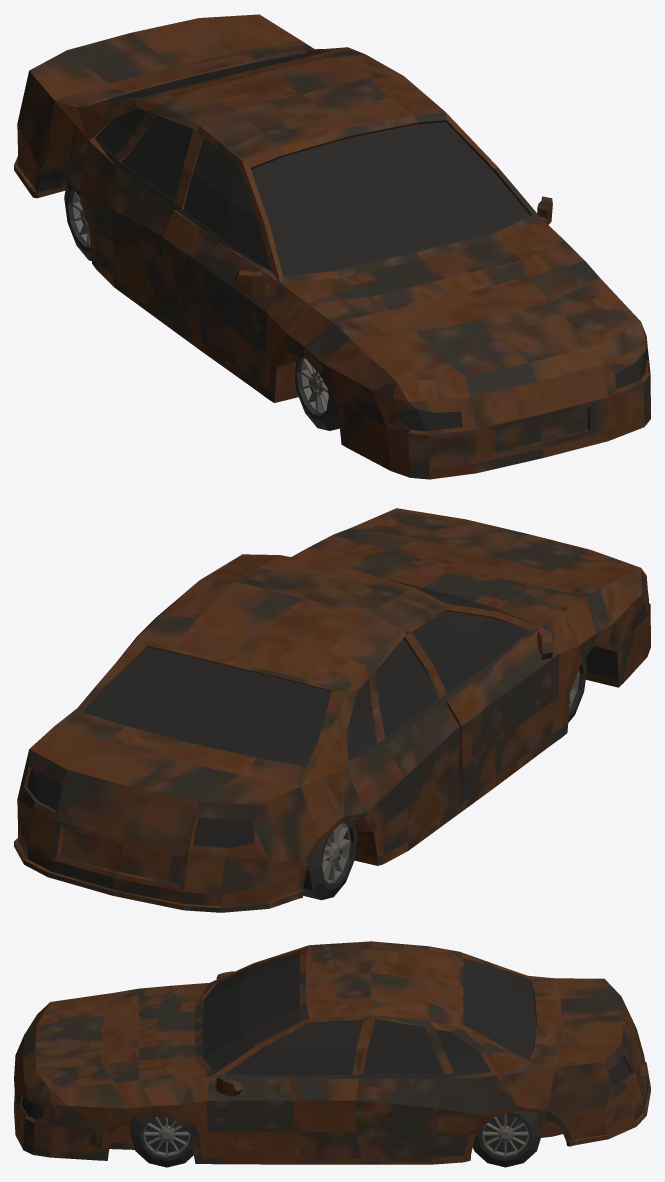
The model's file is wreck_sedan.glb.
The picture shows the model from 3 angles, top to bottom: view 1: azimuth 30°, elevation 25°; view 2: azimuth 150°, elevation 25°; view 3: azimuth 270°, elevation 25°; orthographic projection. The views are drawn at different scales.
Visible parts, largest first — view 1: NormalCar1_Cube.012, NormalCar1_BackWheels_Cube.011; view 2: NormalCar1_Cube.012, NormalCar1_BackWheels_Cube.011; view 3: NormalCar1_Cube.012, NormalCar1_BackWheels_Cube.011.
Part boxes in pixels (left/top/right/bottom): NormalCar1_Cube.012: left=14, top=14, right=650, bottom=479; NormalCar1_BackWheels_Cube.011: left=71, top=190, right=328, bottom=414; NormalCar1_Cube.012: left=14, top=508, right=650, bottom=912; NormalCar1_BackWheels_Cube.011: left=322, top=669, right=579, bottom=883; NormalCar1_Cube.012: left=14, top=941, right=650, bottom=1167; NormalCar1_BackWheels_Cube.011: left=143, top=1114, right=529, bottom=1156.
Bounding box in the file's own units: 1.81 × 1.1 × 4.22.
Materials: 4 (1 with a texture image).
